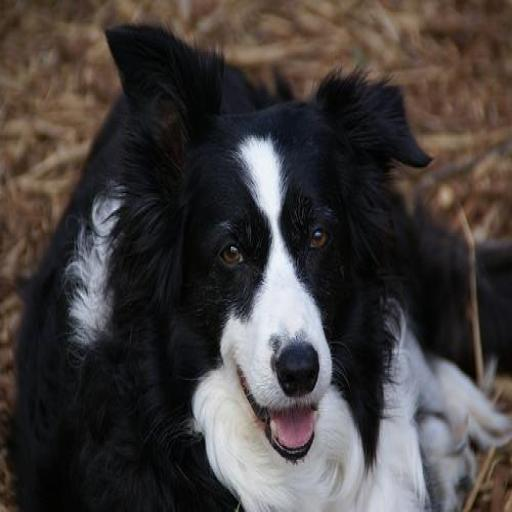dog_face: (101, 18, 421, 448)
